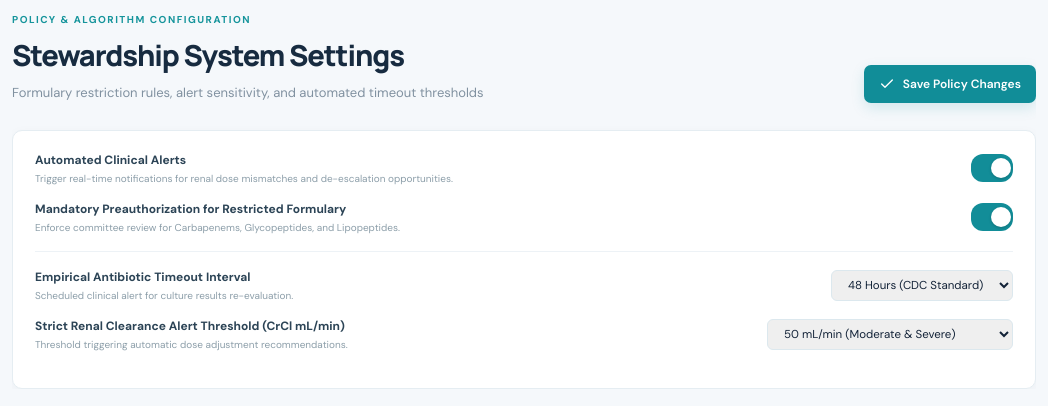
Frontend Component: Admin Portal Views › renders stewardship settings and toggles policy switches
Expected: the heading "Stewardship System Settings" is shown, [12,35,404,75]
Click the button named "toggle automated clinical alerts": {"x": 992, "y": 168} [971,154,1013,182]
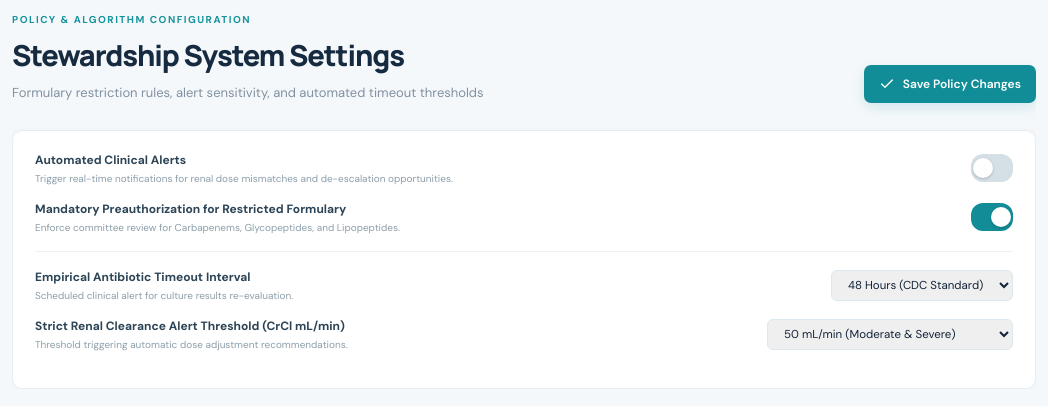
Result: the button named "toggle automated clinical alerts" does not have class "on" at [971,154,1013,182]
